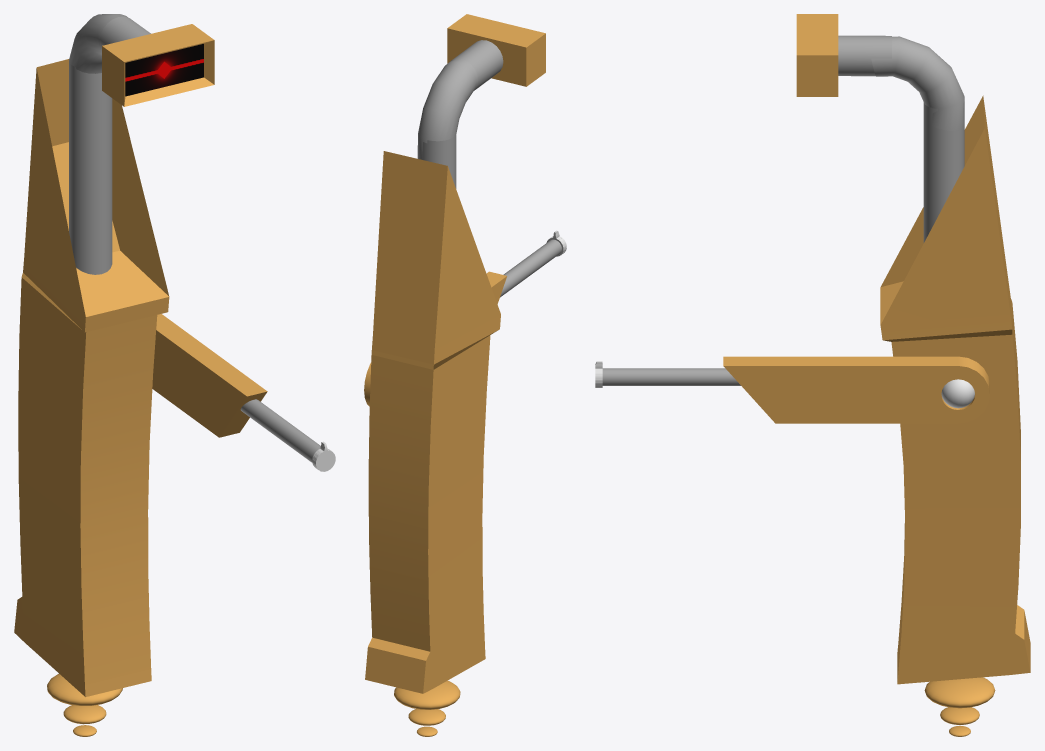
File: OrangeLongCombined.fbx
3 views of the same model, side by side, from view 1: azimuth 30°, elevation 25°; view 2: azimuth 150°, elevation 25°; view 3: azimuth 270°, elevation 25° (orthographic). The views are drawn at different scales.
Parts seen in each view (by area): view 1: polySurface6; view 2: polySurface6; view 3: polySurface6.
Part boxes in pixels (<box>): polySurface6: <box>14,14,335,736</box>; polySurface6: <box>364,14,566,736</box>; polySurface6: <box>595,14,1030,736</box>.
Size of the model in its own units: 1.19 by 7.59 by 4.29.
Materials: 4 (1 with a texture image).
